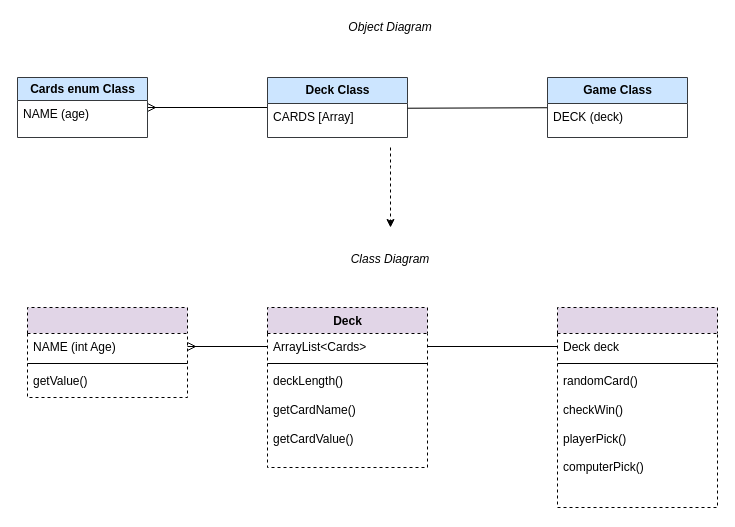
Some shapes in this 735 by 527 pixel diagram are drawn without their labels. Here are the shapes that lost their labels. From the top down, the box of each, then its label:
(26, 306, 188, 398): Cards enum
(556, 306, 718, 508): Game
